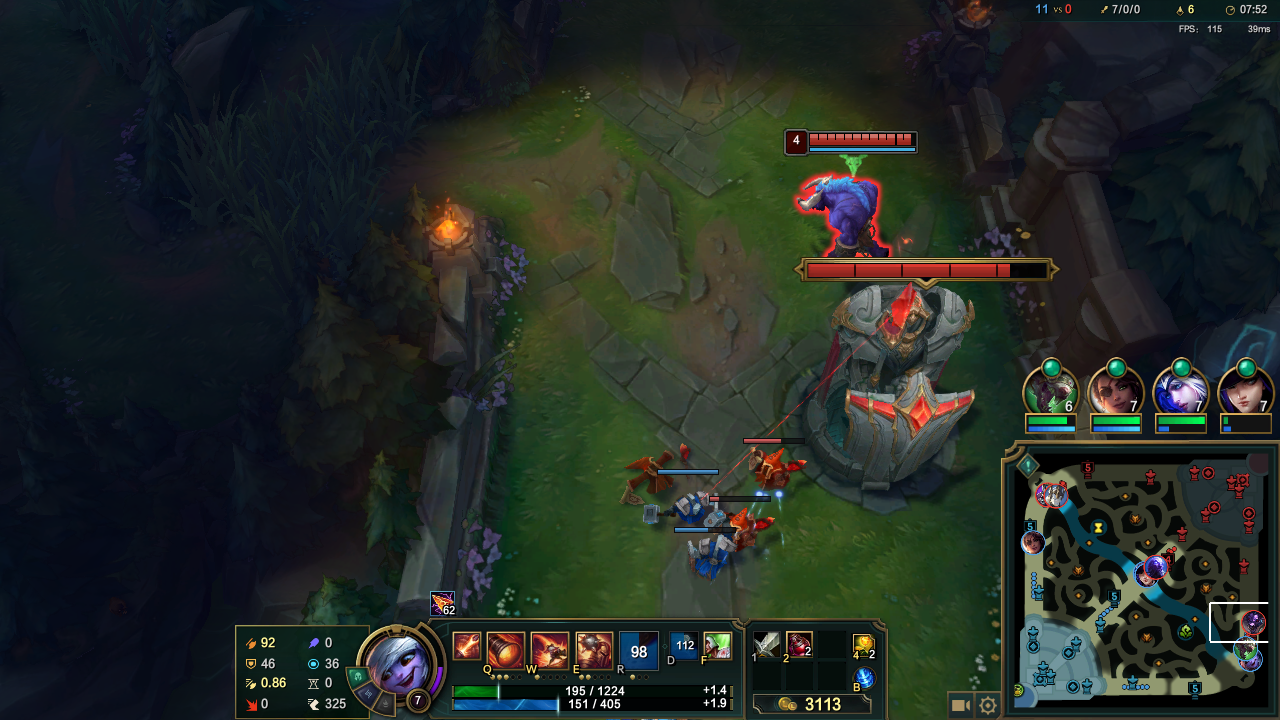DFFYT: (790, 254, 976, 493)
DFXB: (740, 448, 808, 487), (722, 505, 771, 551)
DFYX: (806, 131, 908, 151)
WFXB: (672, 534, 742, 585), (639, 486, 726, 527)
Yita: (1185, 675, 1203, 700)
